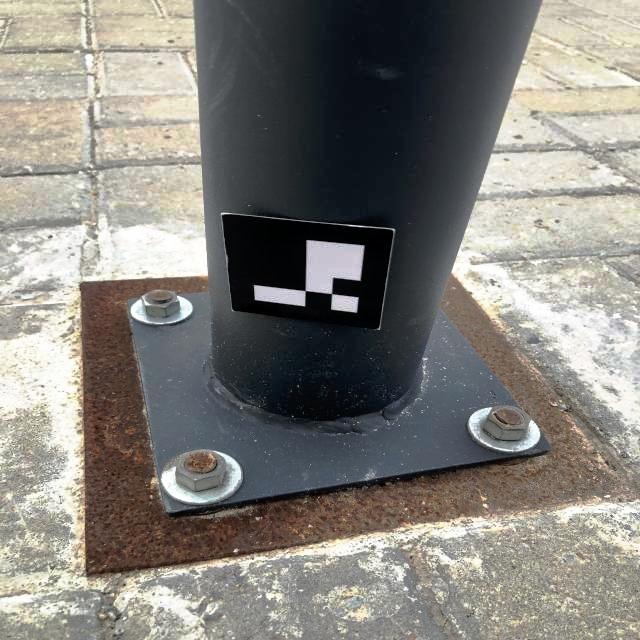Corrosion: (79, 270, 636, 576), (184, 451, 217, 472), (490, 406, 519, 426), (495, 409, 523, 429), (148, 291, 173, 301), (166, 456, 180, 469)
